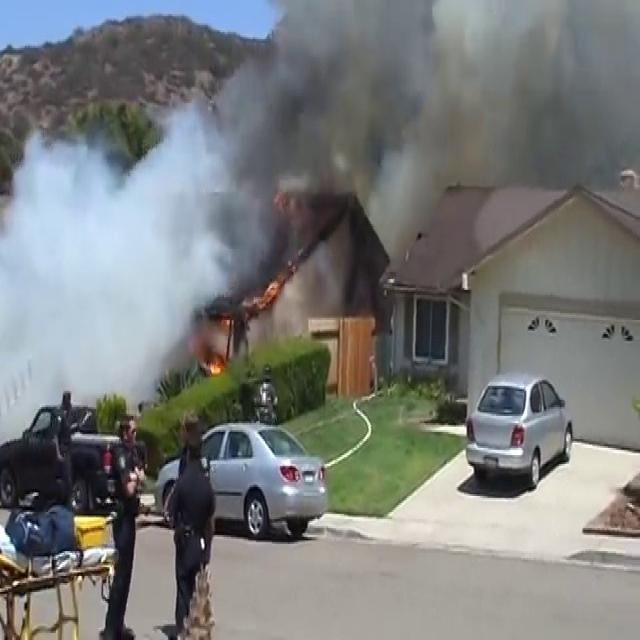Smoke: (166, 0, 640, 290), (0, 96, 228, 406), (391, 0, 640, 220)
